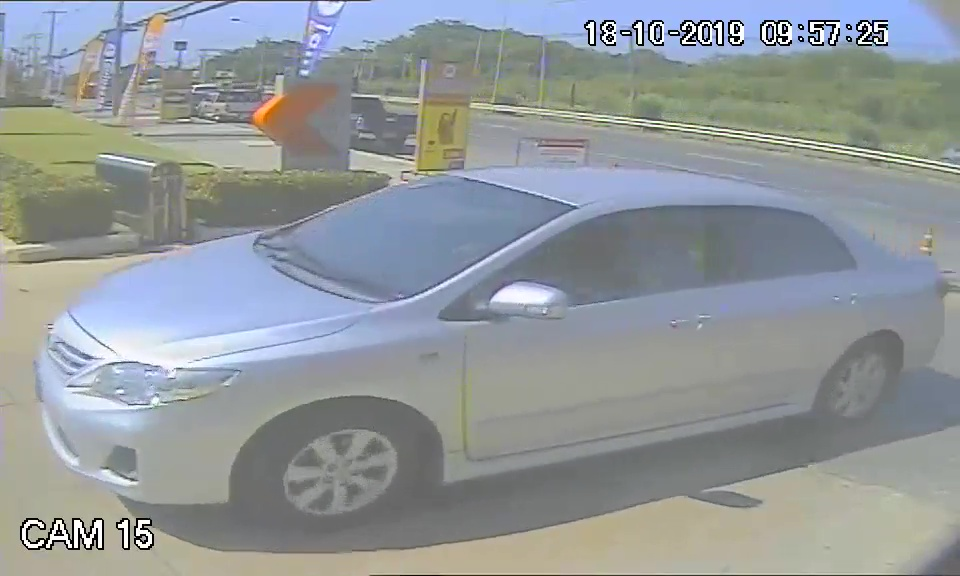sedan: (28, 167, 948, 506)
